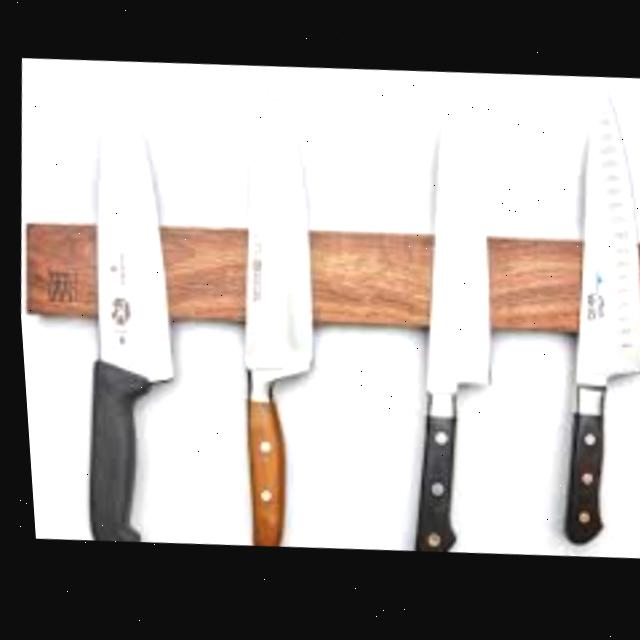Knife: (59, 101, 197, 546), (213, 79, 338, 551), (385, 122, 514, 559), (533, 89, 640, 552)
